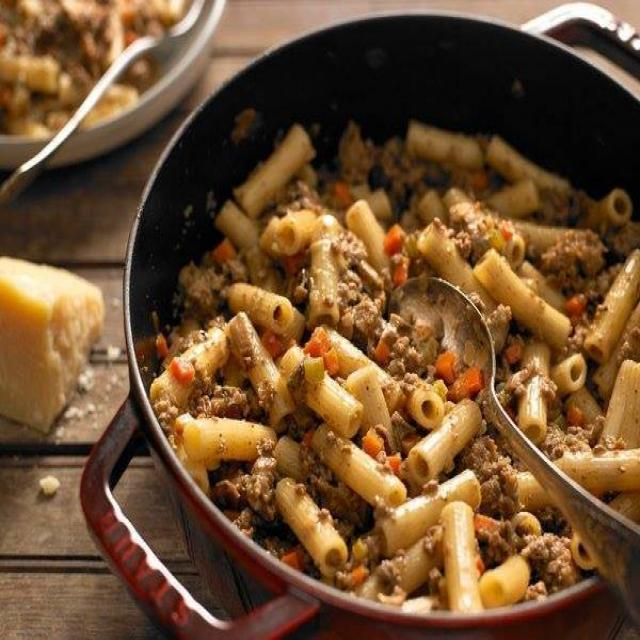Pasta al ragu: (169, 68, 625, 583)
